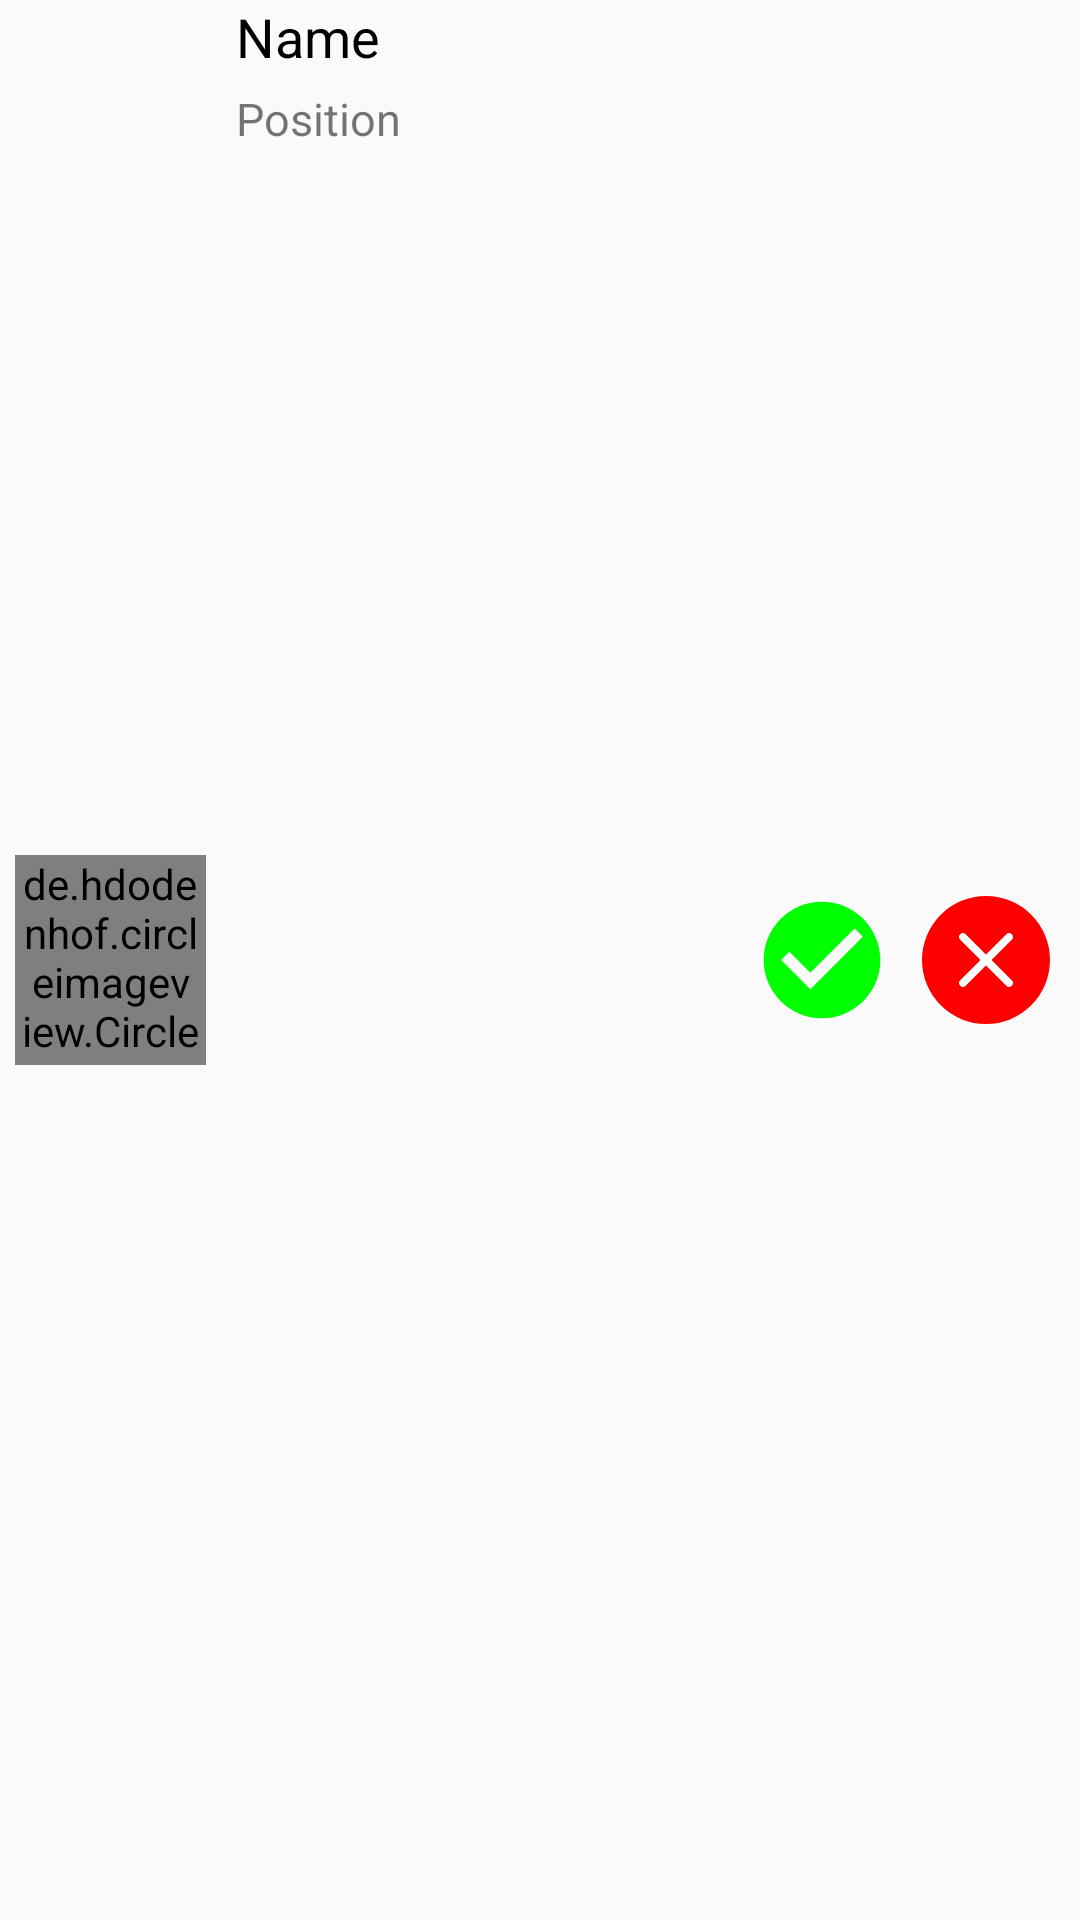

Where icons sit on this 1080×1920 app screen, as (x1, y1, x2, y2):
check: (763, 901, 881, 1019)
error: (922, 896, 1050, 1024)
